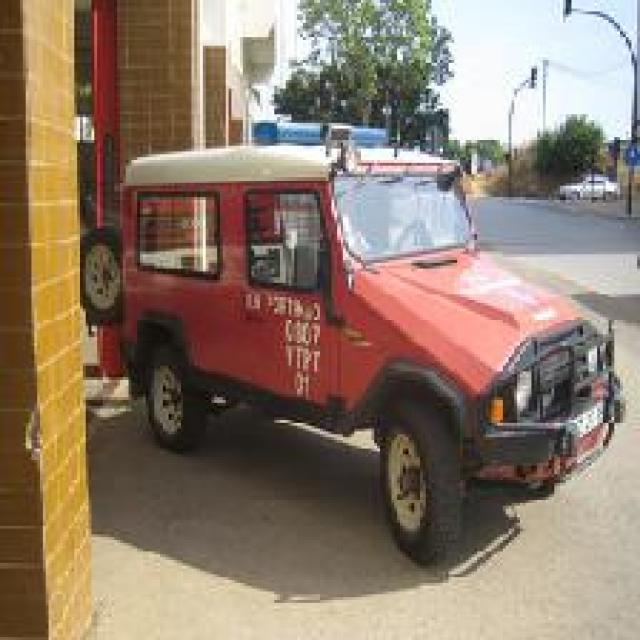emergency: (114, 126, 626, 570)
